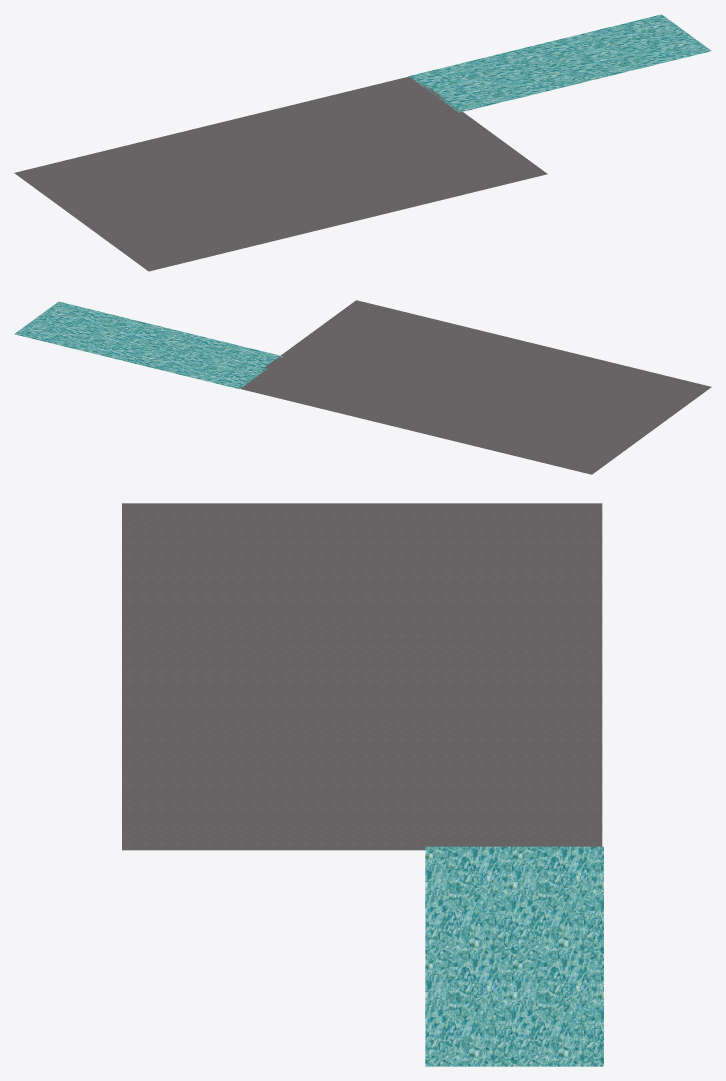
The model's file is Piso.obj.
3 views of the same model, one above another, from view 1: azimuth 30°, elevation 25°; view 2: azimuth 150°, elevation 25°; view 3: azimuth 270°, elevation 25° (orthographic). The views are drawn at different scales.
Visible parts, largest first — view 1: Plane019, Plane018; view 2: Plane019, Plane018; view 3: Plane019, Plane018.
Boxes of the visible parts, x1,y1,x2,y2 form: Plane019: (14,76,547,271); Plane018: (409,14,711,112); Plane019: (240,300,711,474); Plane018: (14,301,283,389); Plane019: (122,503,602,850); Plane018: (425,846,603,1066).
Bounding box in the file's own units: 1288 × 0 × 465.
Materials: 2 (2 with a texture image).
